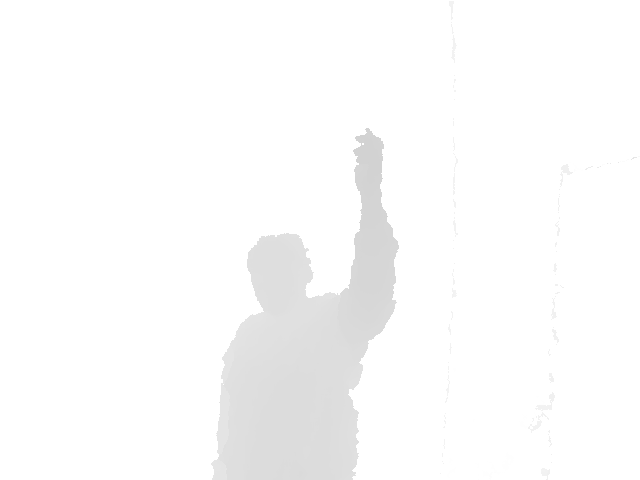hand: (352, 127, 385, 200)
head: (245, 232, 315, 314)
person: (208, 127, 401, 480)
